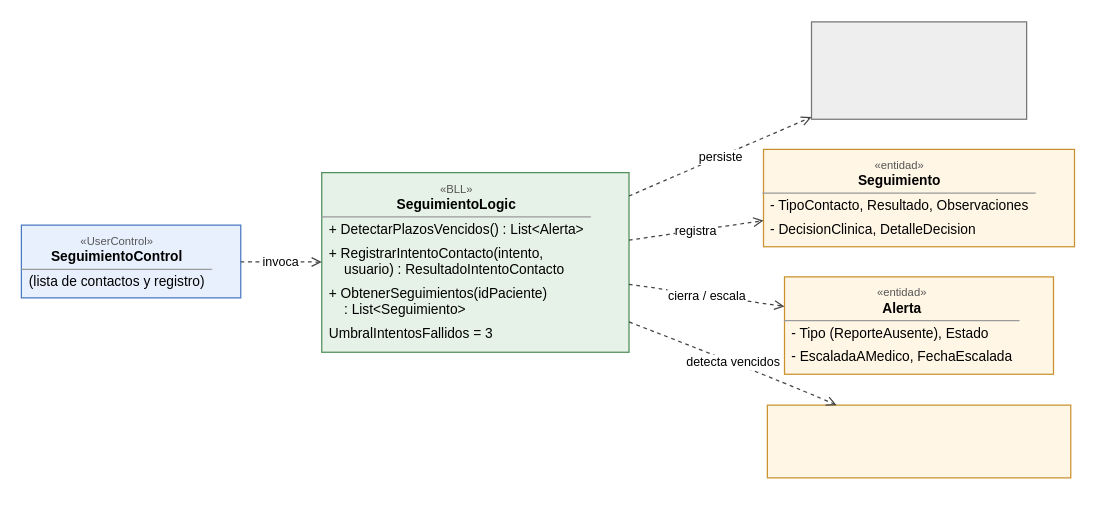
Some shapes in this 1098 by 506 pixel diagram are drawn without their labels. The box of each missing label's shape, as (x1, y1, x2, y2) in pixels:
«EF Core» NegocioDbContext + SaveChanges() : int (firma DVH/DVV y audita): (810, 21, 1027, 119)
«entidad» HistoriaClinica - PeriodicidadDias, ProximaFechaControl: (766, 404, 1071, 478)
